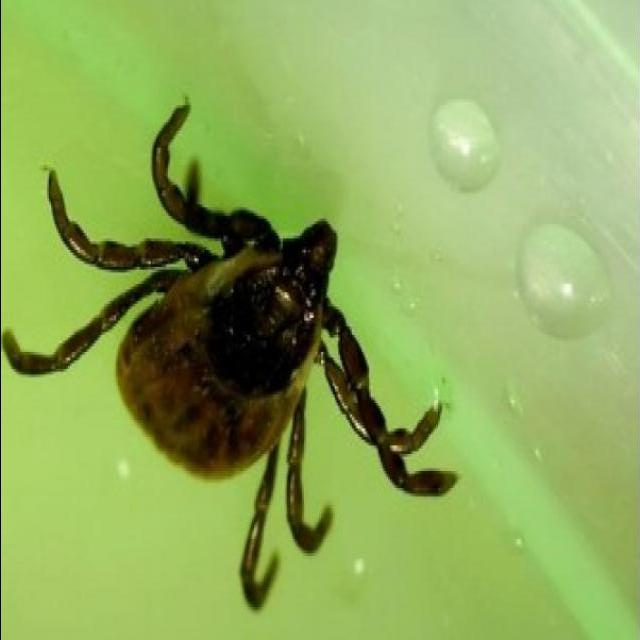Rhipicephalus Sanguineus-F: (1, 105, 459, 610)
